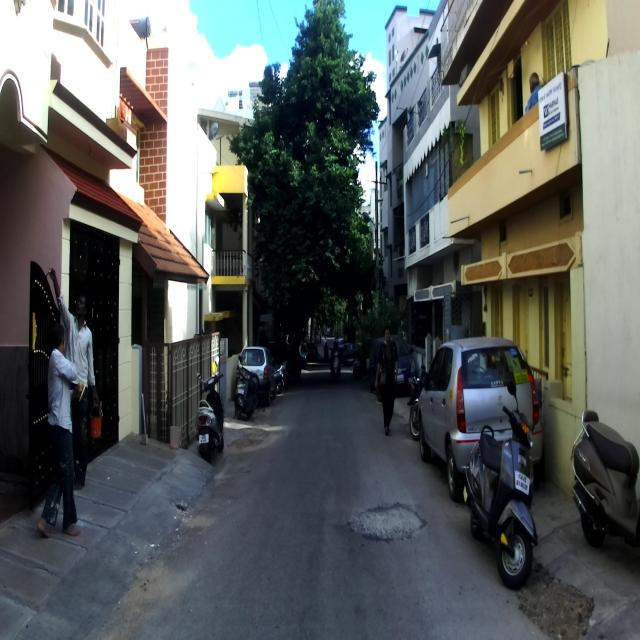car: (418, 336, 542, 502), (368, 332, 415, 402), (238, 344, 276, 405)
scooter: (463, 378, 538, 590), (569, 408, 640, 549), (194, 354, 226, 463), (233, 360, 260, 420)
